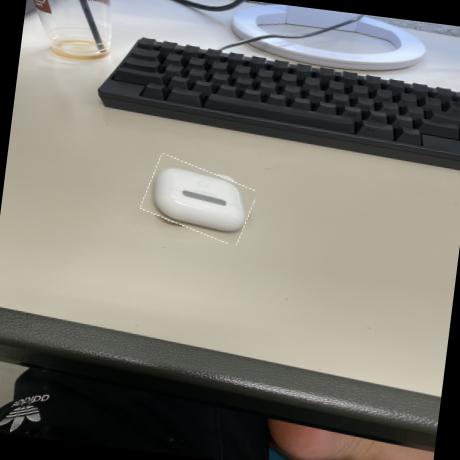airpod3: (141, 157, 257, 242)
